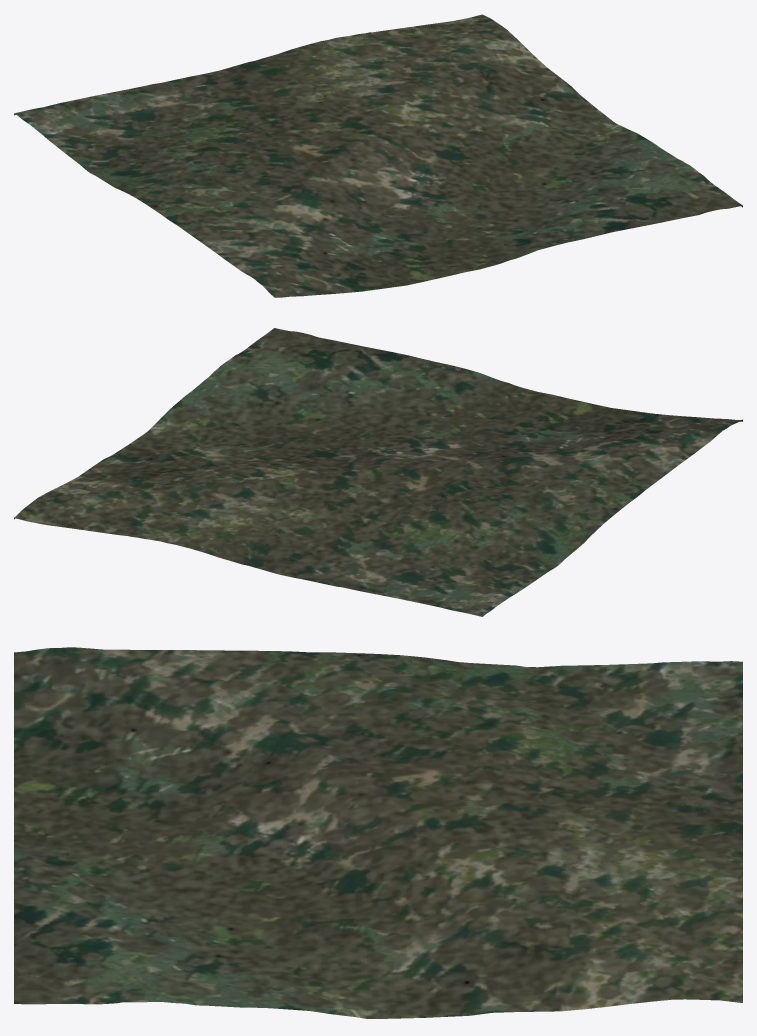
The picture shows the model from 3 angles, top to bottom: view 1: azimuth 30°, elevation 25°; view 2: azimuth 150°, elevation 25°; view 3: azimuth 270°, elevation 25°; orthographic projection. The views are drawn at different scales.
Bounding box in the file's own units: 250 × 19.87 × 241.
1 material, 1 textured.
